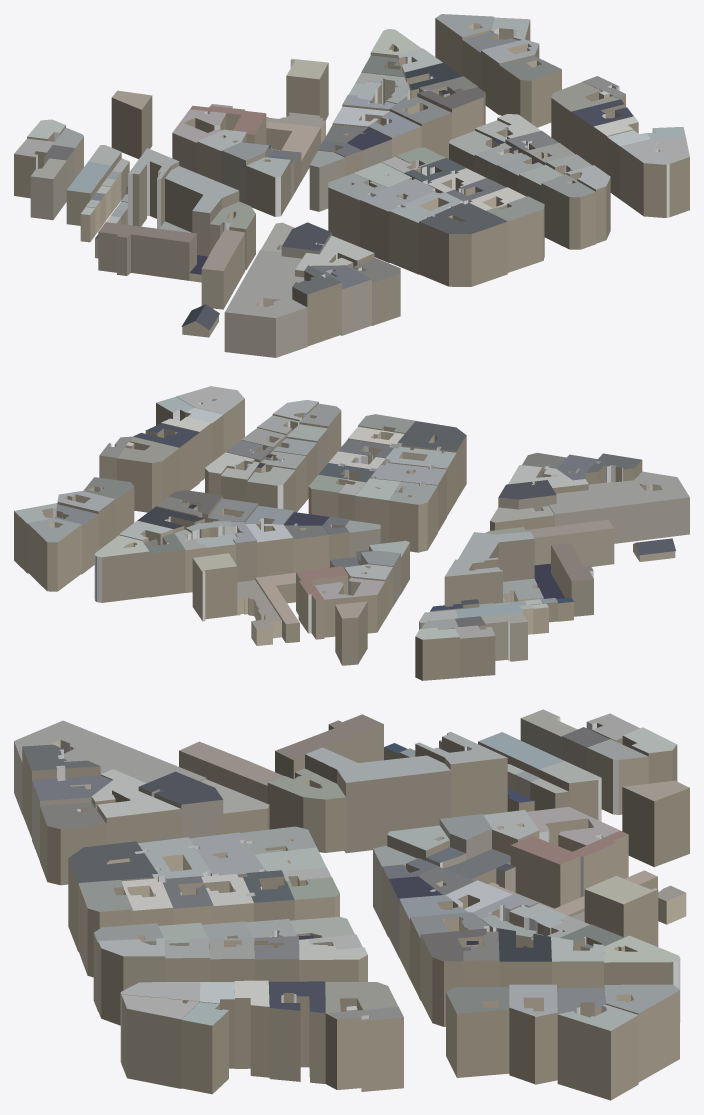
The picture shows the model from 3 angles, top to bottom: view 1: azimuth 30°, elevation 25°; view 2: azimuth 150°, elevation 25°; view 3: azimuth 270°, elevation 25°; orthographic projection. The views are drawn at different scales.
Parts seen in each view (by area): view 1: tuile; view 2: tuile; view 3: tuile.
Part boxes in pixels (x1,y1,x2,y2): tuile: (14, 14, 689, 357); tuile: (14, 386, 689, 680); tuile: (14, 709, 689, 1100).
Size of the model in its own units: 268 by 30.27 by 227.
